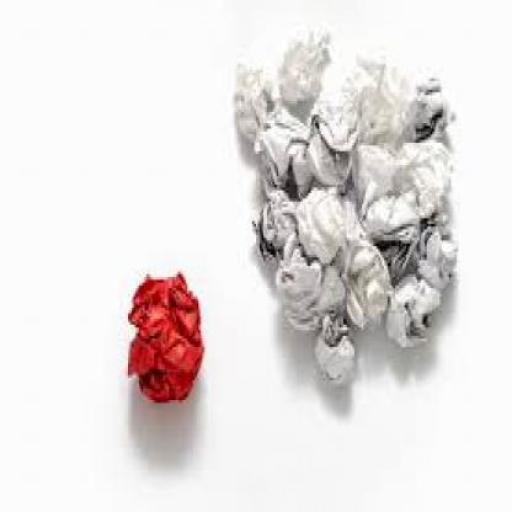paper: (128, 272, 202, 406), (347, 129, 419, 232), (343, 53, 408, 145), (278, 244, 344, 332), (254, 103, 313, 196), (274, 31, 328, 120), (342, 234, 390, 330), (295, 176, 343, 268), (303, 109, 354, 185), (388, 275, 439, 347), (234, 62, 274, 148), (406, 132, 447, 215), (253, 184, 295, 260), (404, 76, 452, 140), (419, 226, 456, 288), (318, 319, 352, 386), (334, 193, 360, 240)
